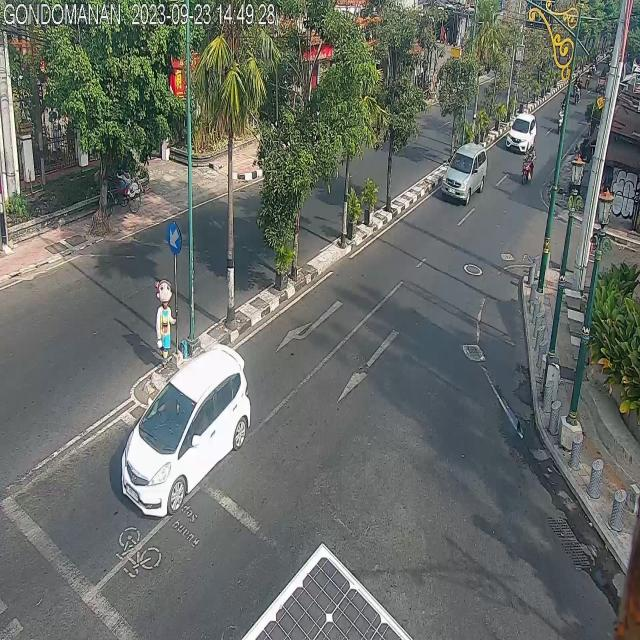car: (121, 341, 250, 523), (442, 142, 491, 205), (503, 110, 537, 152)
motorcycle: (520, 142, 536, 191), (557, 94, 566, 132), (574, 69, 583, 101)
